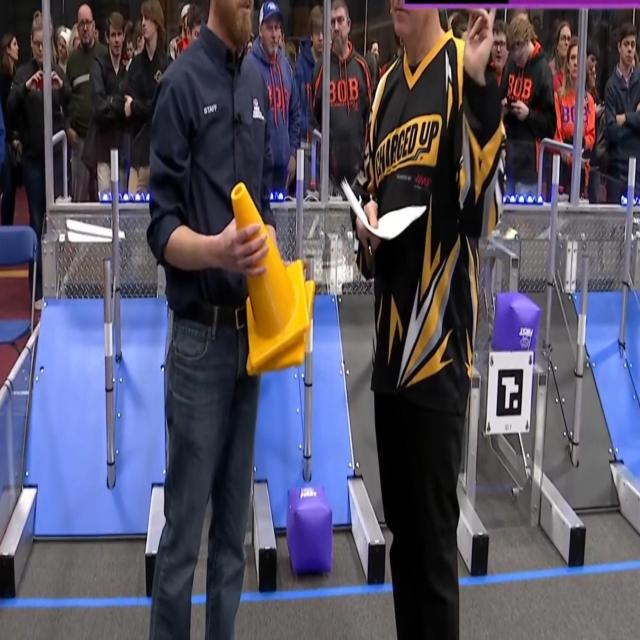frc_cone: (231, 181, 310, 364), (246, 282, 316, 376)
frc_cube: (286, 485, 333, 575), (492, 290, 538, 358)
